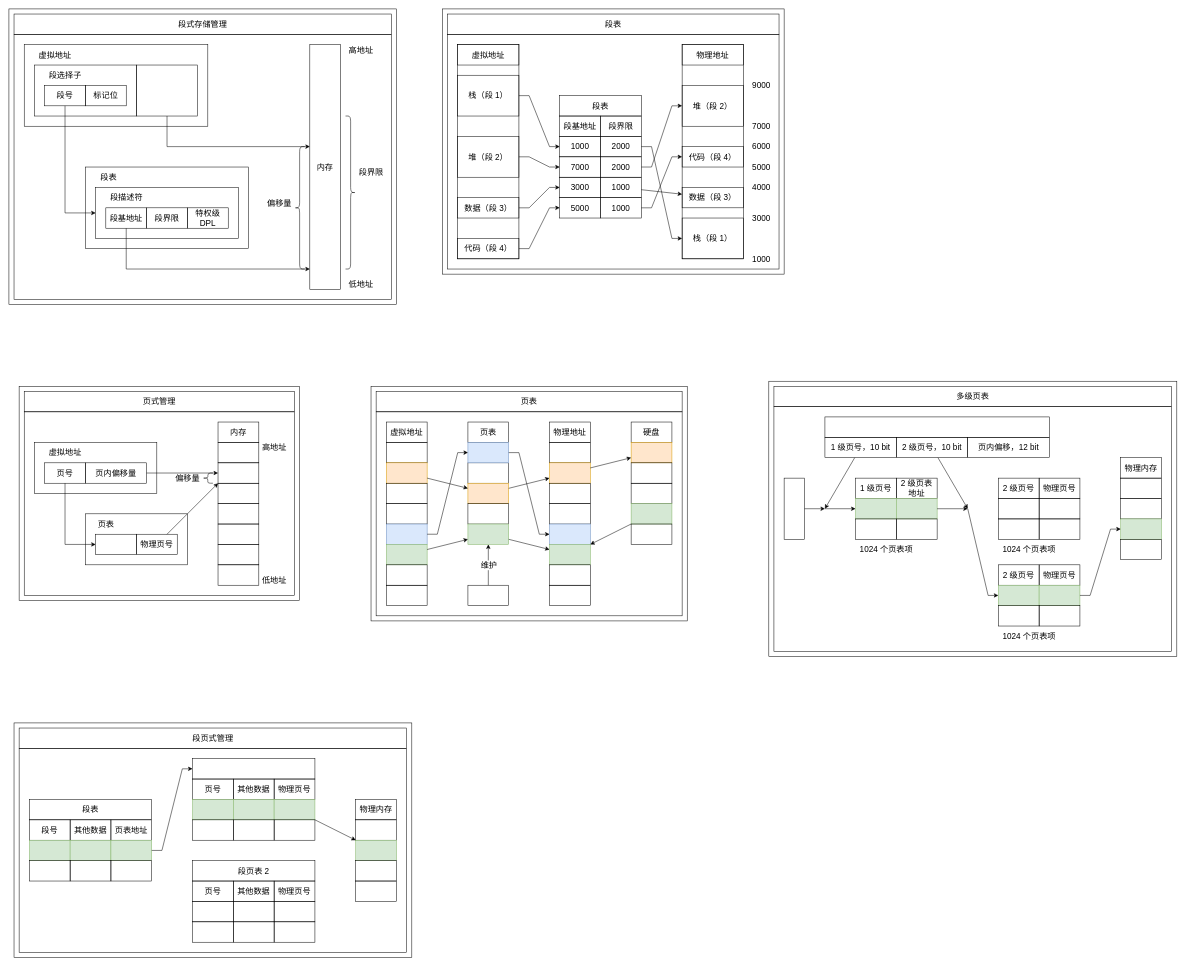
This 1186x966 diagram has some shape labels left out. The centre of each missing label's shape, as x and y in pixels:
MMU: (488,595)
段内偏移量: (167,90)
段页表 1: (253,768)
虚拟地址，32 bit: (936,426)
虚拟页号: (115,544)
页 表 寄 存 器: (794,508)
